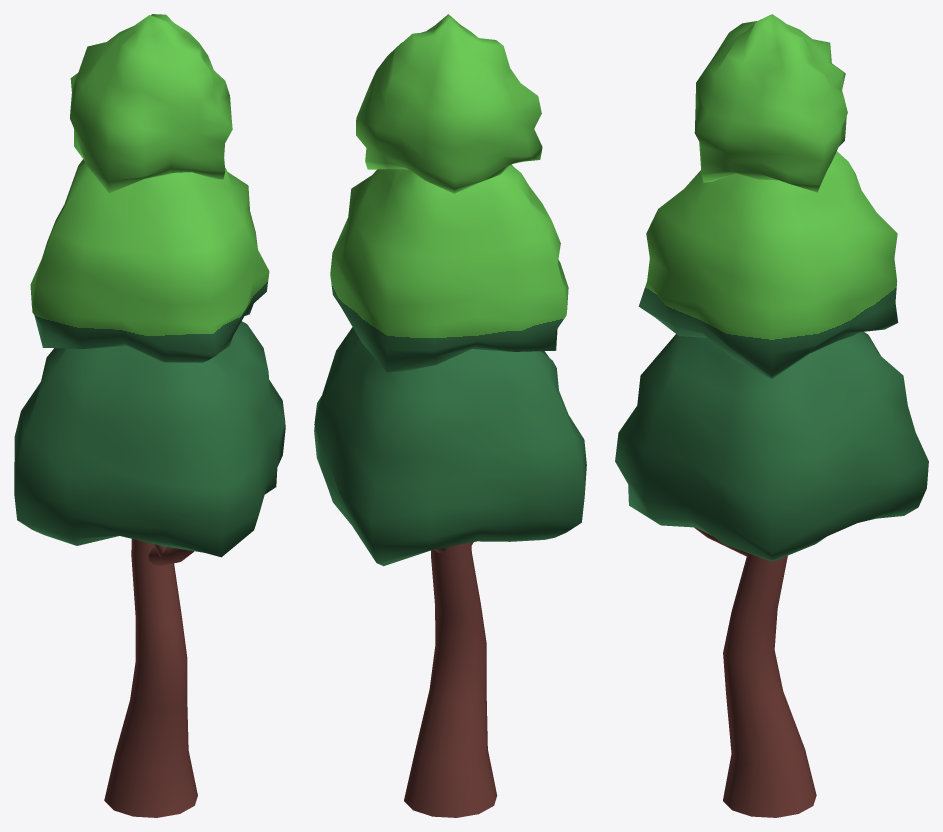
File: Arbol_01.fbx
The picture shows the model from 3 angles, left to right: view 1: azimuth 30°, elevation 25°; view 2: azimuth 150°, elevation 25°; view 3: azimuth 270°, elevation 25°; orthographic projection.
Parts seen in each view (by area): view 1: Arbol_01; view 2: Arbol_01; view 3: Arbol_01.
Boxes of the visible parts, x1=… form: Arbol_01: x1=14, y1=14, x2=285, y2=817; Arbol_01: x1=314, y1=14, x2=586, y2=817; Arbol_01: x1=615, y1=14, x2=928, y2=817.
Size of the model in its own units: 1096 by 3019 by 1096.
